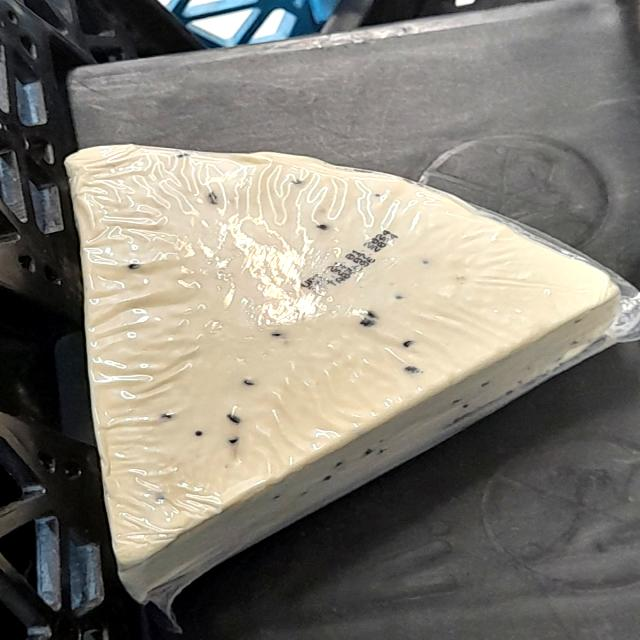cheese: (45, 125, 640, 604)
